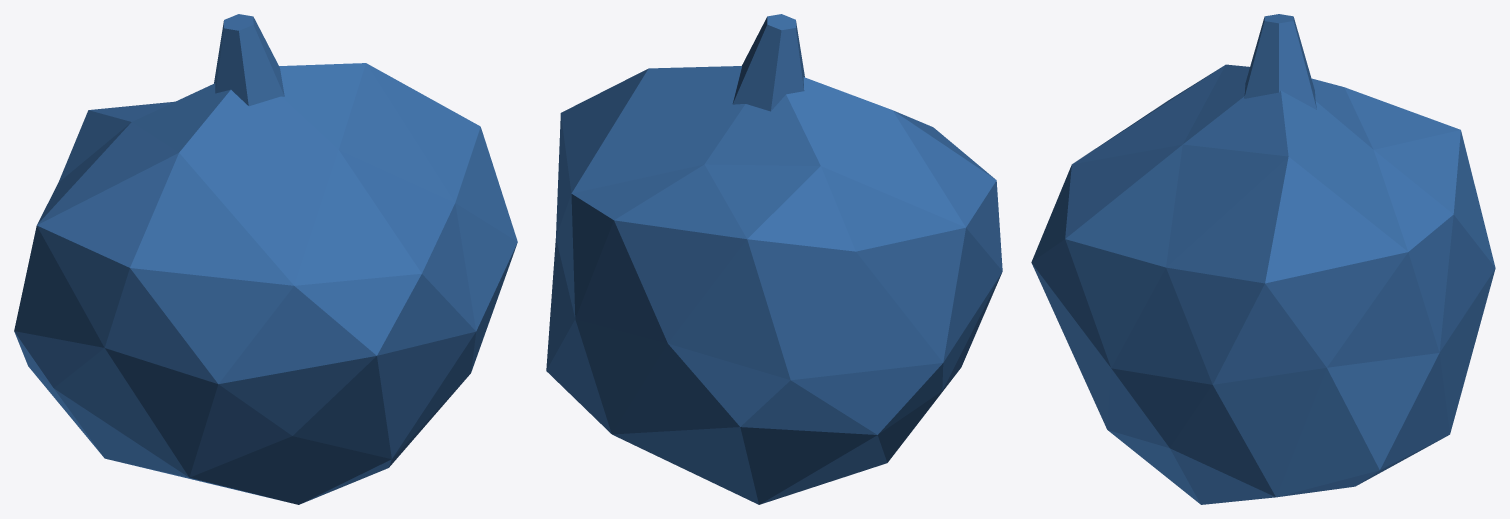
File: TrashBagBlue.fbx
The picture shows the model from 3 angles, left to right: view 1: azimuth 30°, elevation 25°; view 2: azimuth 150°, elevation 25°; view 3: azimuth 270°, elevation 25°; orthographic projection. The views are drawn at different scales.
Parts seen in each view (by area): view 1: TrashBagBlue; view 2: TrashBagBlue; view 3: TrashBagBlue.
Boxes of the visible parts, bbox=[...] form: TrashBagBlue: bbox=[14, 14, 517, 504]; TrashBagBlue: bbox=[546, 14, 1002, 504]; TrashBagBlue: bbox=[1031, 14, 1495, 504].
Bounding box in the file's own units: 0.5947 × 0.5927 × 0.554.
